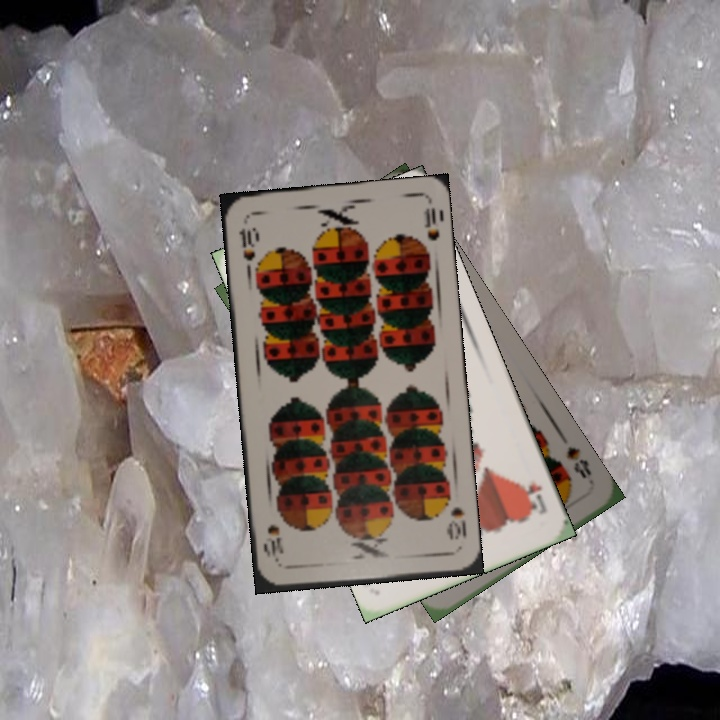HO: (515, 476, 549, 517)
S10: (443, 502, 469, 542), (235, 224, 258, 263)
S8: (562, 442, 594, 482)
